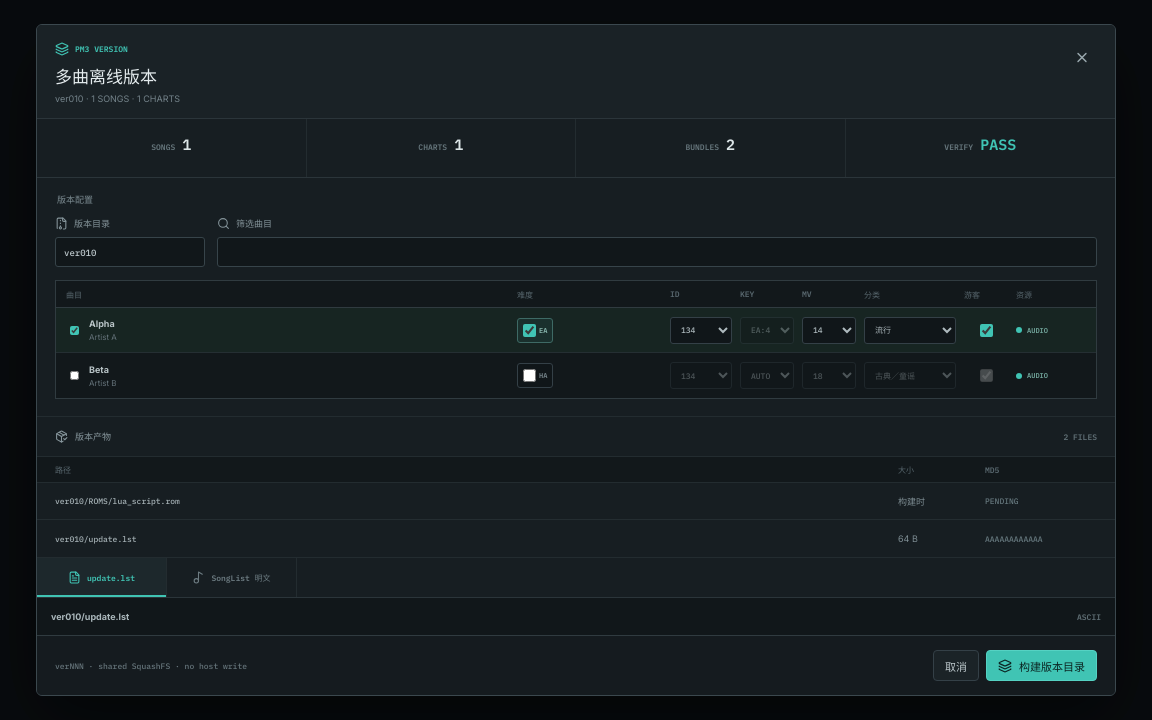
it: Pm3VersionDialog › previews selected projects and exports one shared version directory
Click the checkbox named "选择 Beta" at (74, 376), box [70,369,79,382]
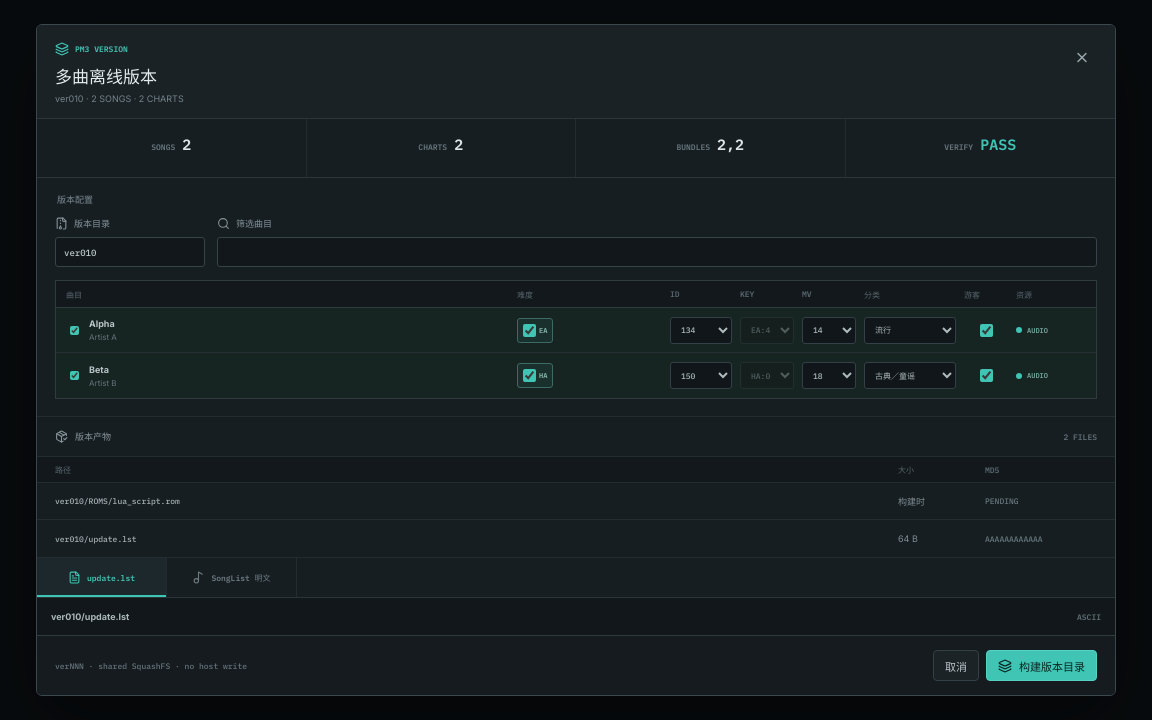
Select "原创／其他" in the dropdown named "Beta 音乐分类" at (910, 376), box [864,362,956,389]
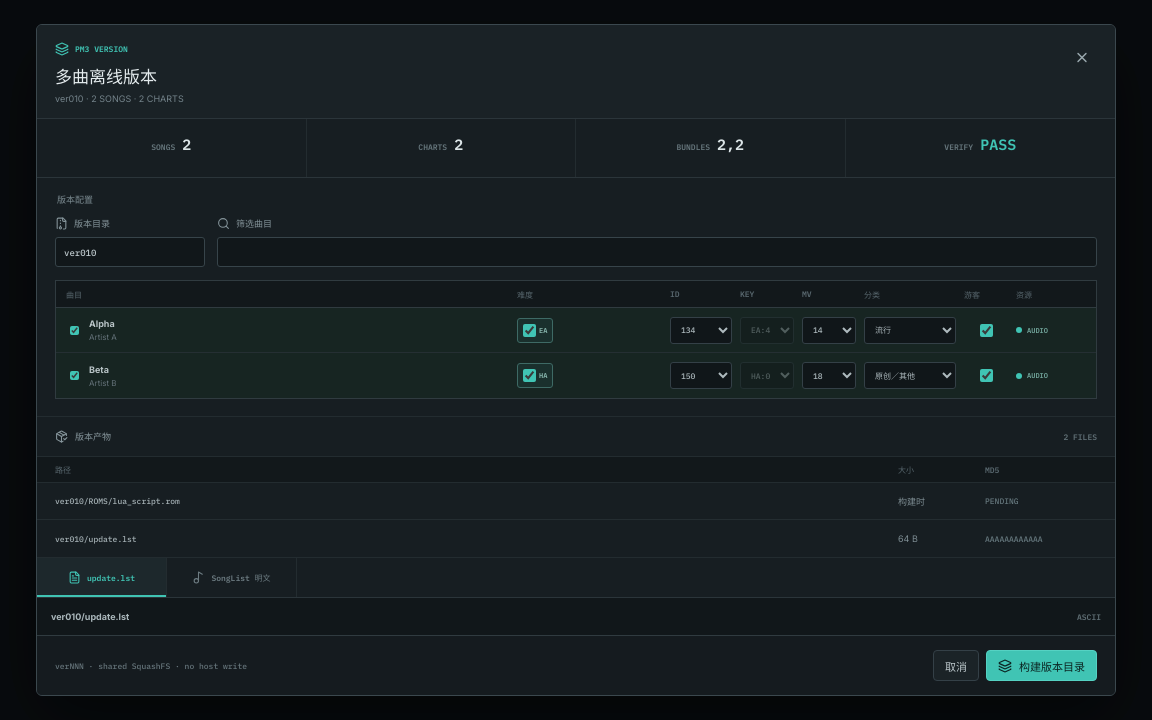
Click the checkbox named "Beta 游客开放" at (986, 376), box [980,369,992,382]
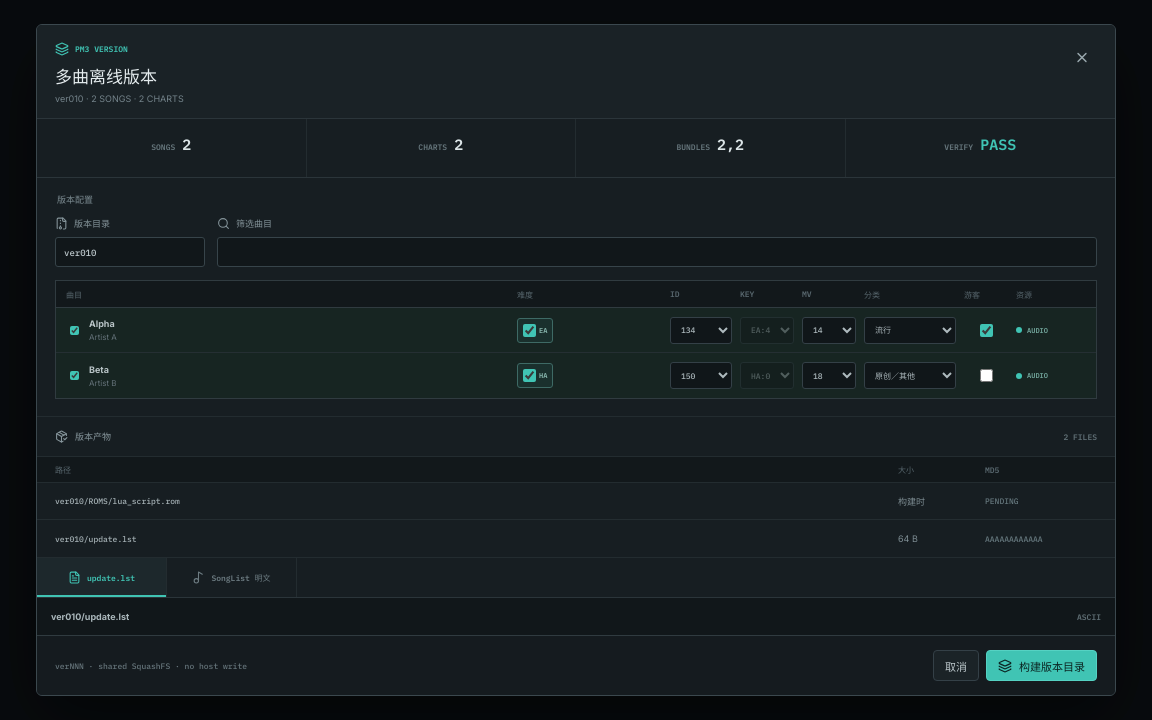
Check: the text "ver010/ROMS/lua_script.rom" is shown, box [55,496,180,506]
Click the button "构建版本目录" at (1042, 666), box [986,650,1097,681]
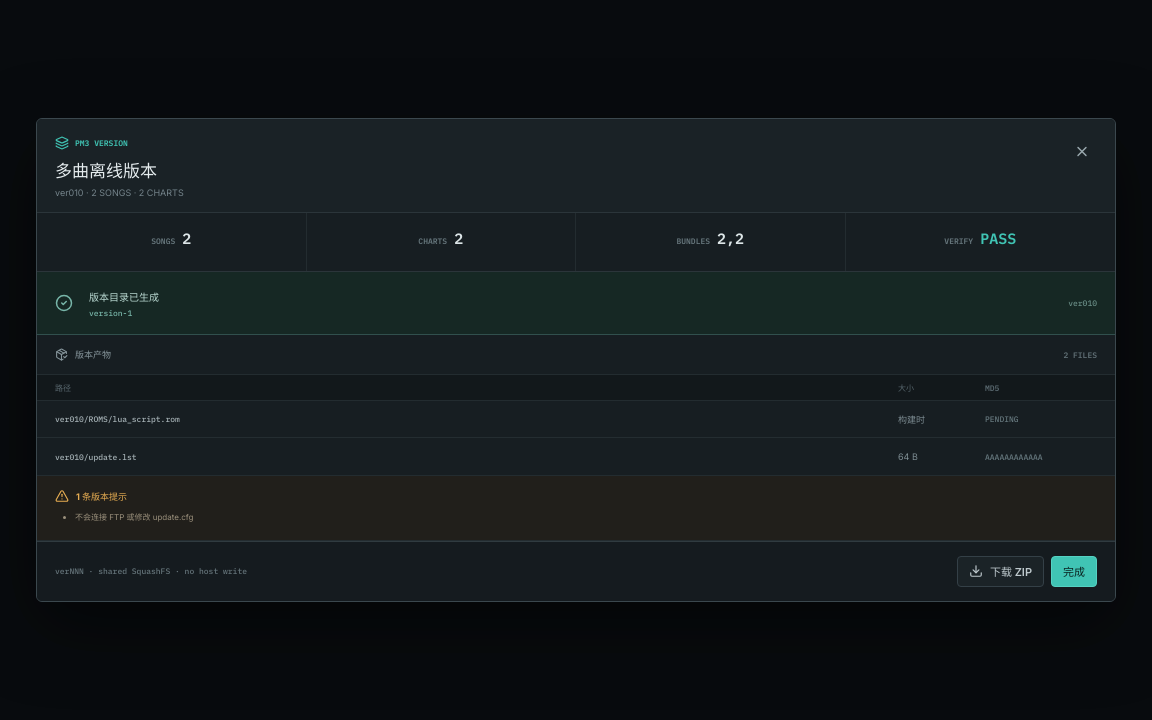
Check: the text "版本目录已生成" is shown, box [89,291,159,303]
